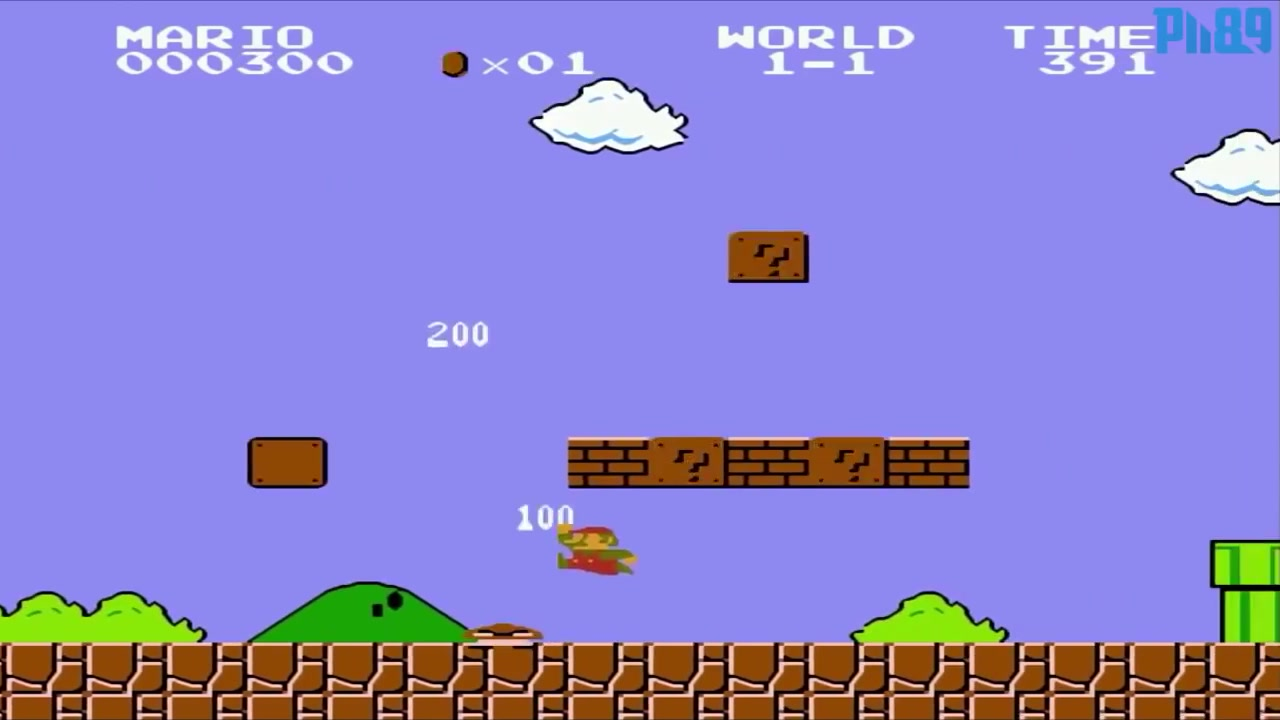mario: (542, 517, 647, 586)
